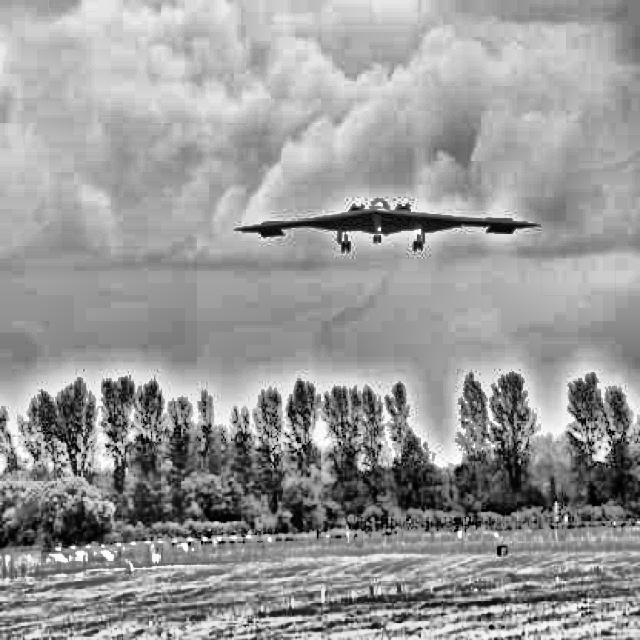B2: (233, 198, 541, 252)
